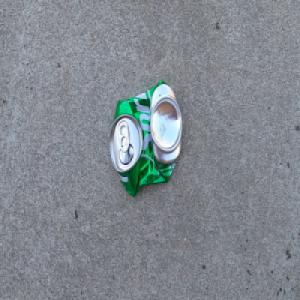SodaCan: (108, 77, 184, 199)
